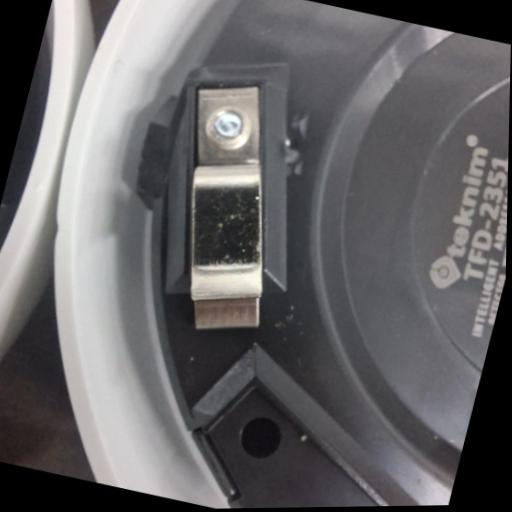yayli: (135, 68, 318, 345)
